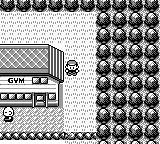main: (65, 61, 79, 76)
no-caminable: (1, 44, 63, 107)
npc: (2, 107, 14, 122)
puerta: (34, 94, 46, 107)
salto: (0, 133, 95, 140)
